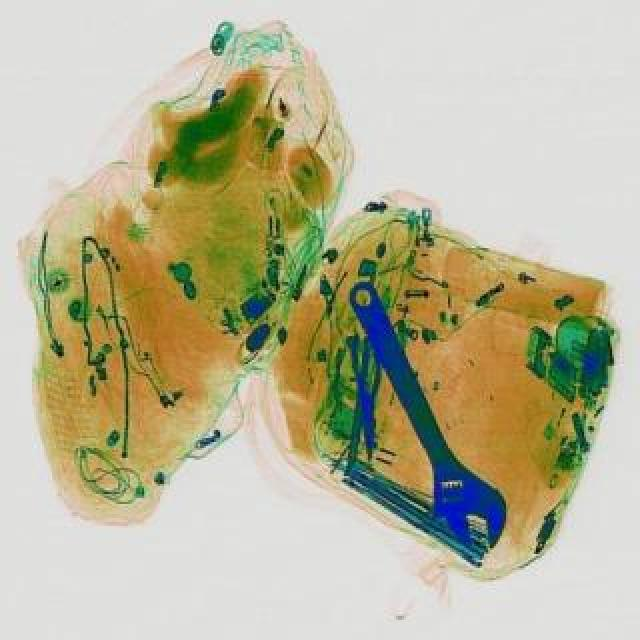scissors: (324, 268, 520, 562)
wrench: (350, 334, 382, 458)
